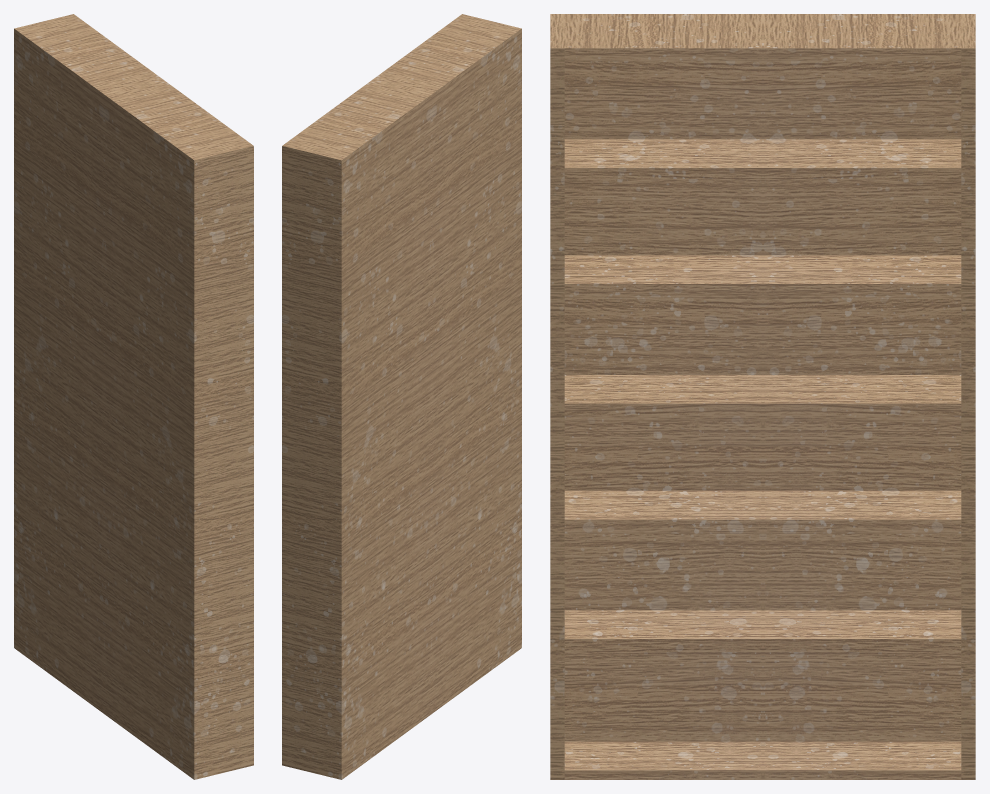
The model's file is Bookshelf.fbx.
The picture shows the model from 3 angles, left to right: view 1: azimuth 30°, elevation 25°; view 2: azimuth 150°, elevation 25°; view 3: azimuth 270°, elevation 25°; orthographic projection. The views are drawn at different scales.
Parts seen in each view (by area): view 1: Cube; view 2: Cube; view 3: Cube.
Boxes of the visible parts, bbox=[...] form: Cube: bbox=[14, 14, 253, 779]; Cube: bbox=[282, 14, 521, 779]; Cube: bbox=[550, 14, 975, 779].
Size of the model in its own units: 76.75 by 762 by 402.
